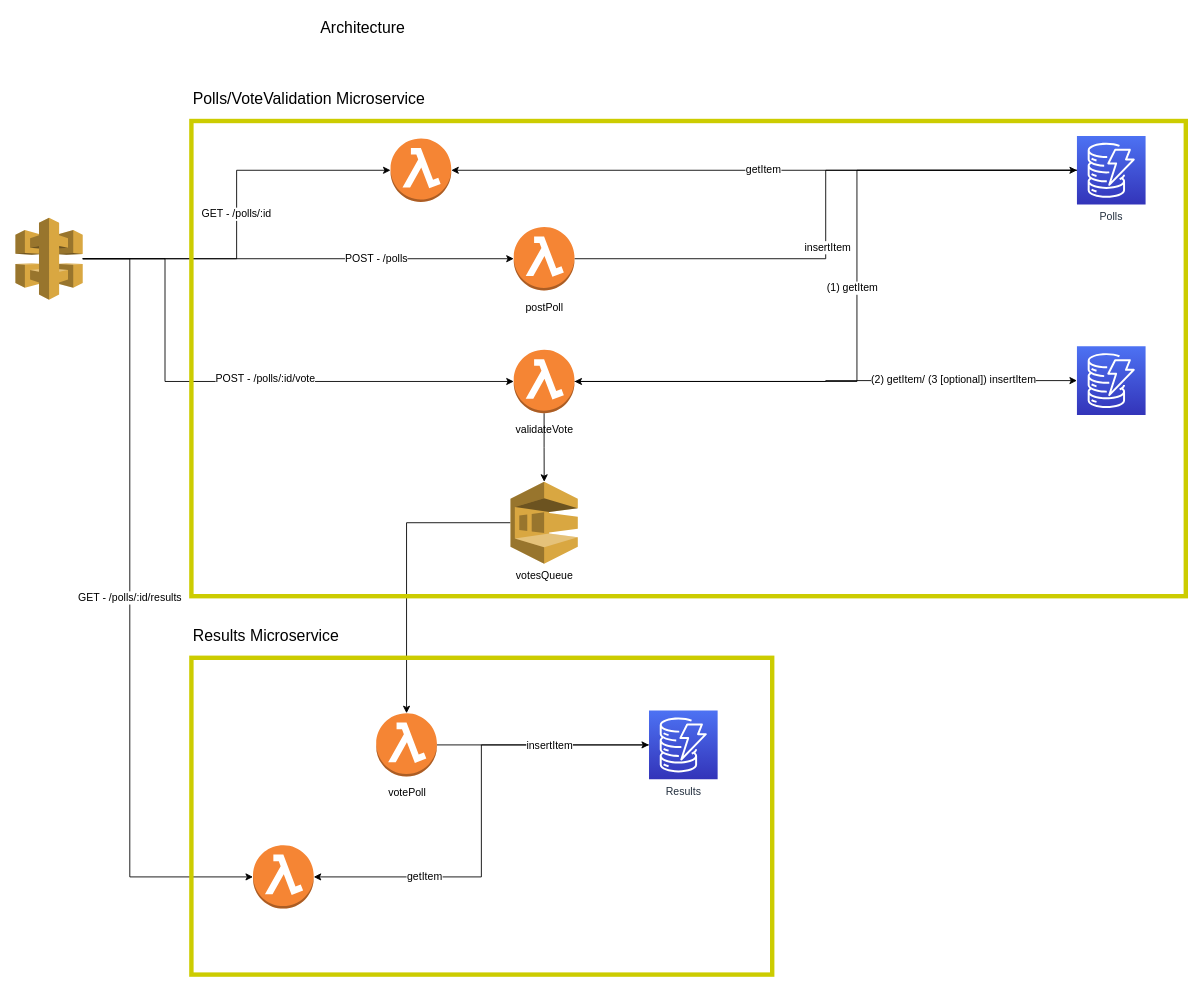
This 1203x992 diagram has some shape labels left out. The box of each missing label's shape, as (x1, y1, x2, y2) in pixels:
getPoll: (390, 138, 451, 202)
getResults: (252, 844, 314, 909)
VotesDeduplication: (1076, 345, 1146, 415)
